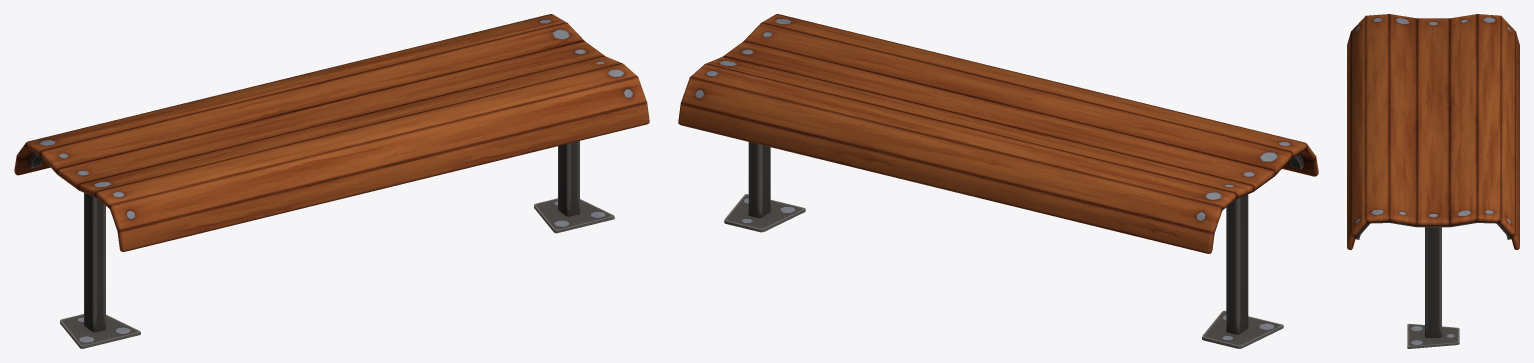
Rendered from StreetBench02.FBX.
3 views of the same model, side by side, from view 1: azimuth 30°, elevation 25°; view 2: azimuth 150°, elevation 25°; view 3: azimuth 270°, elevation 25° (orthographic). The views are drawn at different scales.
Parts seen in each view (by area): view 1: StreetBench02; view 2: StreetBench02; view 3: StreetBench02.
Part boxes in pixels (bbox=[...]): StreetBench02: bbox=[14, 14, 649, 348]; StreetBench02: bbox=[678, 14, 1318, 348]; StreetBench02: bbox=[1347, 14, 1519, 348].
Size of what is drawn, in the model's own units: 2.32 by 0.6872 by 0.8234.
